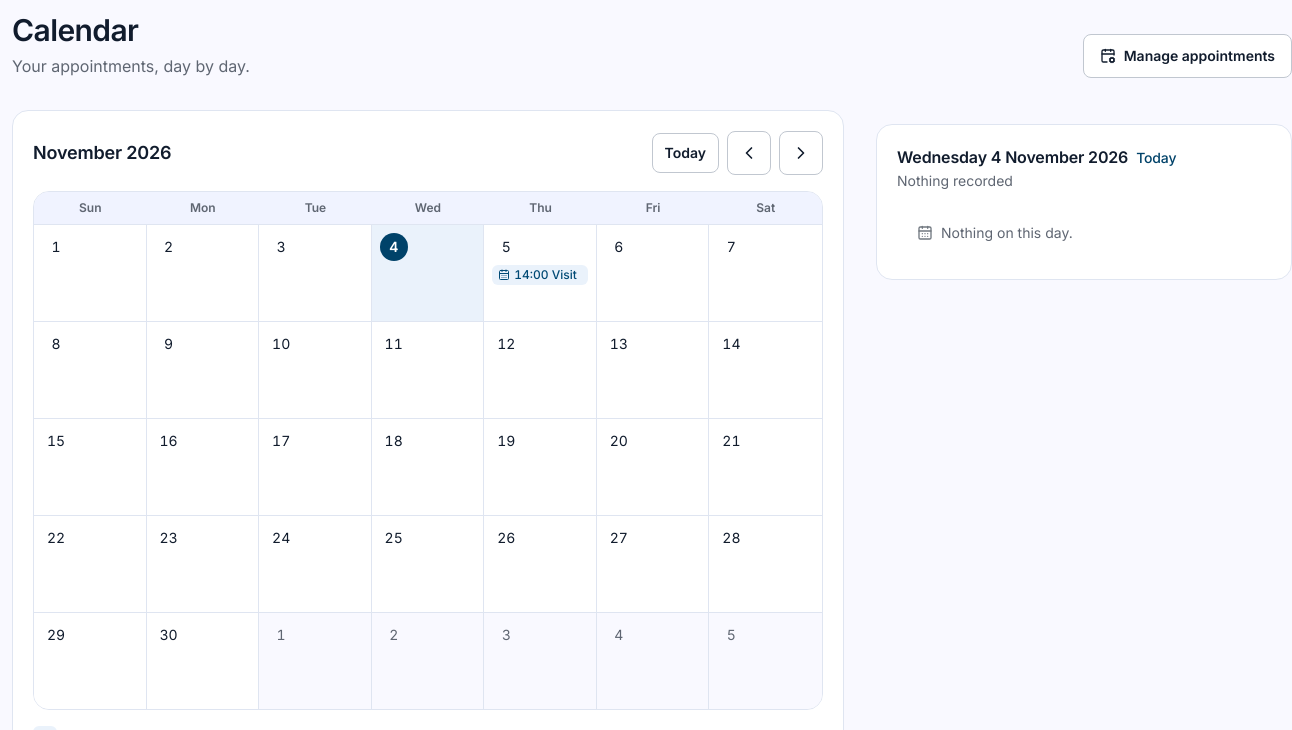
Scenario: the doctor’s calendar › shows the doctor’s own appointments, with whom, linked to the patient’s record
What coordinates should you click on to do the following:
click the button with aria-label "Thursday 5 November 2026:"
I would click on:
 (540, 273)
Its box is [484,225,596,321].
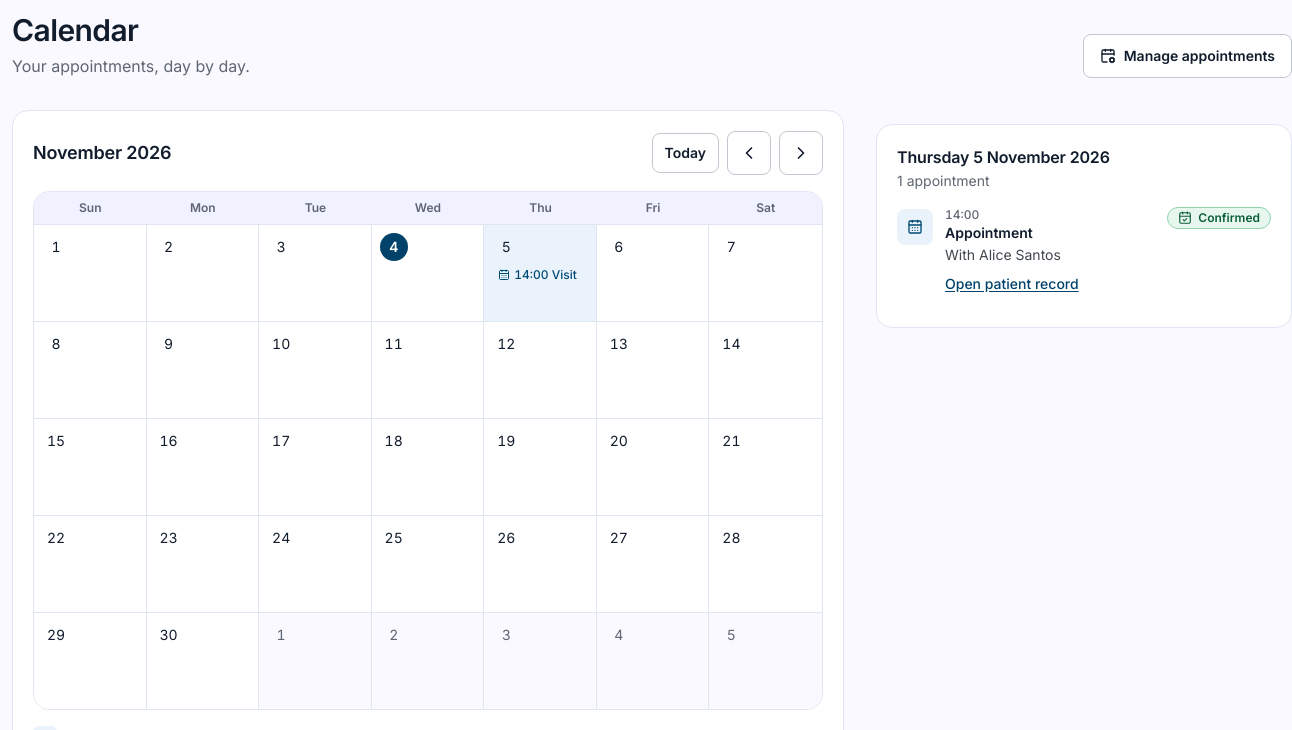
expect the element that starts with "Thursday 5 November 2026" does not show "Bea Reyes": met, box [897,145,1271,307]
expect the element that starts with "Thursday 5 November 2026" shows "With Alice Santos": met, box [945,246,1061,263]
